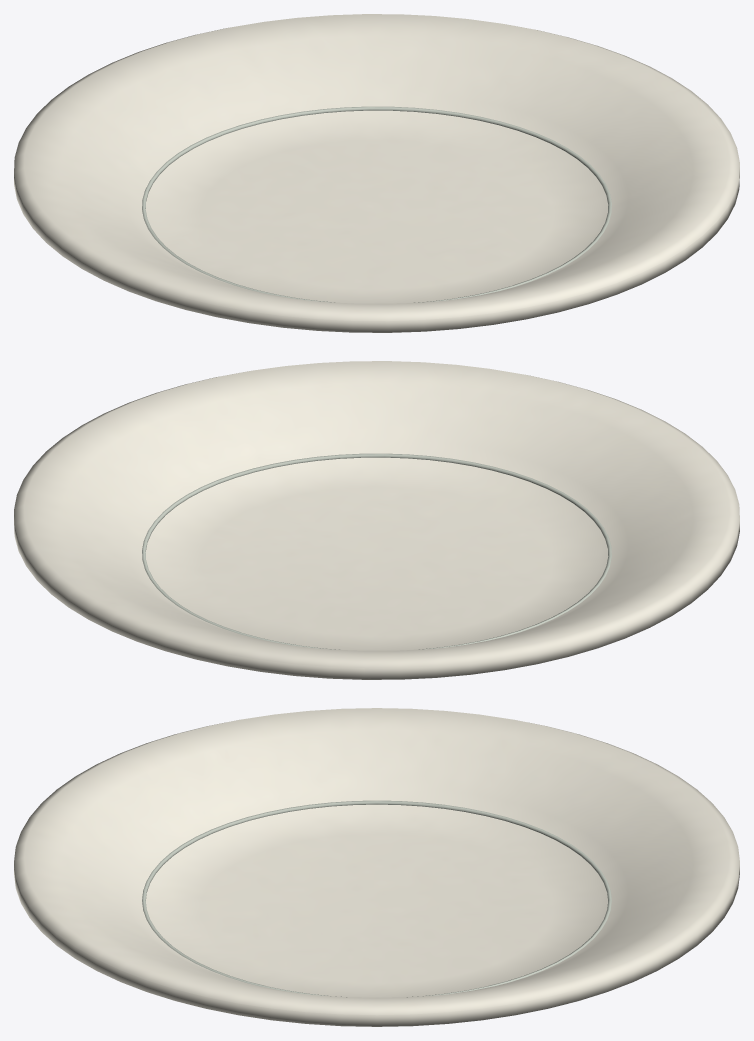
The model's file is 03_Dinner_Plate.fbx.
3 views of the same model, one above another, from view 1: azimuth 30°, elevation 25°; view 2: azimuth 150°, elevation 25°; view 3: azimuth 270°, elevation 25° (orthographic).
Visible parts, largest first — view 1: 03_Dinner_Plate_Mesh; view 2: 03_Dinner_Plate_Mesh; view 3: 03_Dinner_Plate_Mesh.
Boxes of the visible parts, x1,y1,x2,y2 form: 03_Dinner_Plate_Mesh: [14, 14, 739, 332]; 03_Dinner_Plate_Mesh: [14, 361, 739, 679]; 03_Dinner_Plate_Mesh: [14, 708, 739, 1026].
Bounding box in the file's own units: 28 × 2.7 × 28.
1 material, 1 textured.
